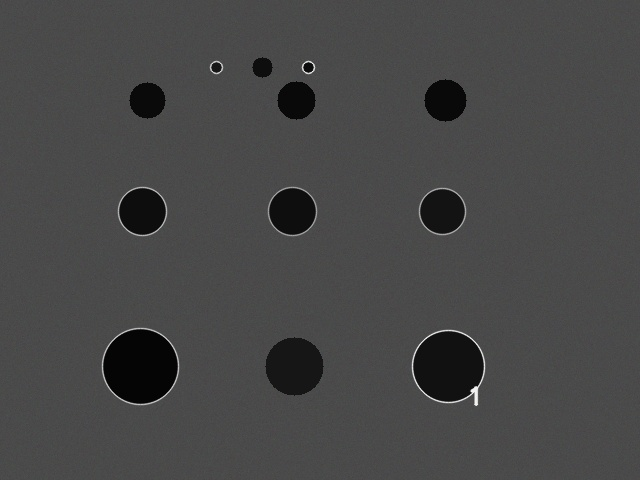hole: (102, 328, 178, 404), (412, 330, 484, 402), (265, 337, 323, 395), (118, 187, 166, 235), (268, 187, 316, 235), (419, 188, 465, 234), (424, 79, 466, 121), (277, 81, 315, 119), (129, 82, 165, 118), (252, 57, 272, 77), (210, 61, 222, 73), (302, 61, 314, 73)
